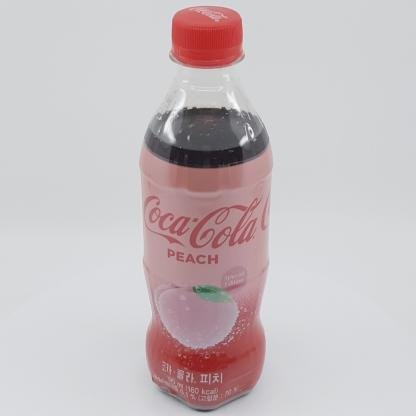-----------390ML: (139, 5, 273, 412)
